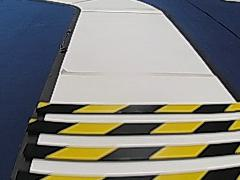bump: (21, 94, 233, 173)
